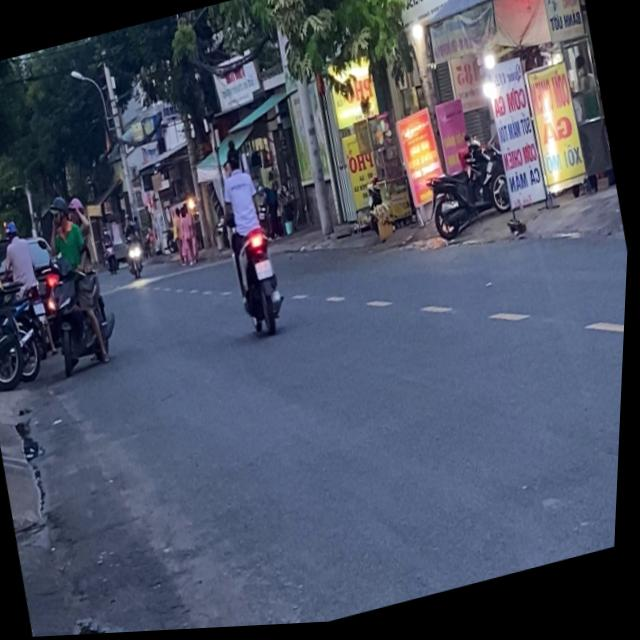helmet: (49, 193, 74, 229), (67, 196, 90, 229)
licenseplate: (28, 184, 130, 380), (207, 137, 298, 343)
motorcyclist: (224, 144, 247, 177)
nohelmet: (257, 260, 277, 282)
